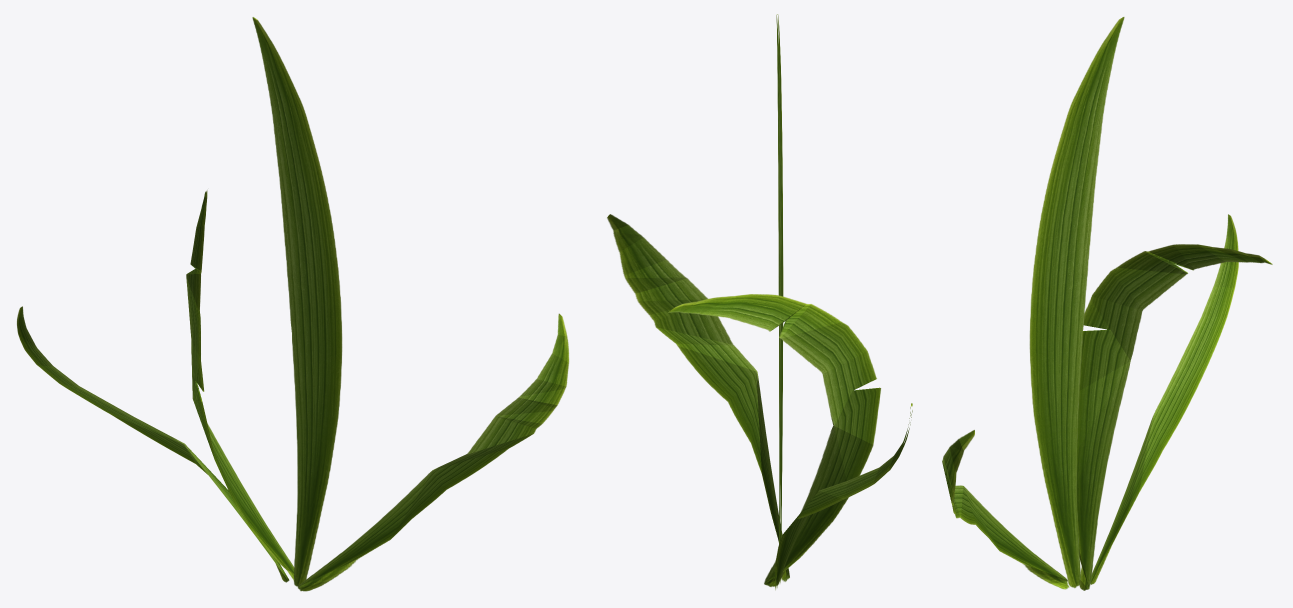
Rendered from grass_04.glb.
3 renders of one model, left to right at view 1: azimuth 30°, elevation 25°; view 2: azimuth 150°, elevation 25°; view 3: azimuth 270°, elevation 25°, orthographic. The views are drawn at different scales.
Parts seen in each view (by area): view 1: Solo pasto2; view 2: Solo pasto2; view 3: Solo pasto2.
Boxes of the visible parts, x1=… form: Solo pasto2: x1=17, y1=17, x2=569, y2=591; Solo pasto2: x1=607, y1=14, x2=912, y2=589; Solo pasto2: x1=942, y1=17, x2=1272, y2=590.
Size of the model in its own units: 0.6754 by 0.8663 by 0.4676.
1 material, 1 textured.
